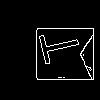T: (29, 27, 82, 67)
